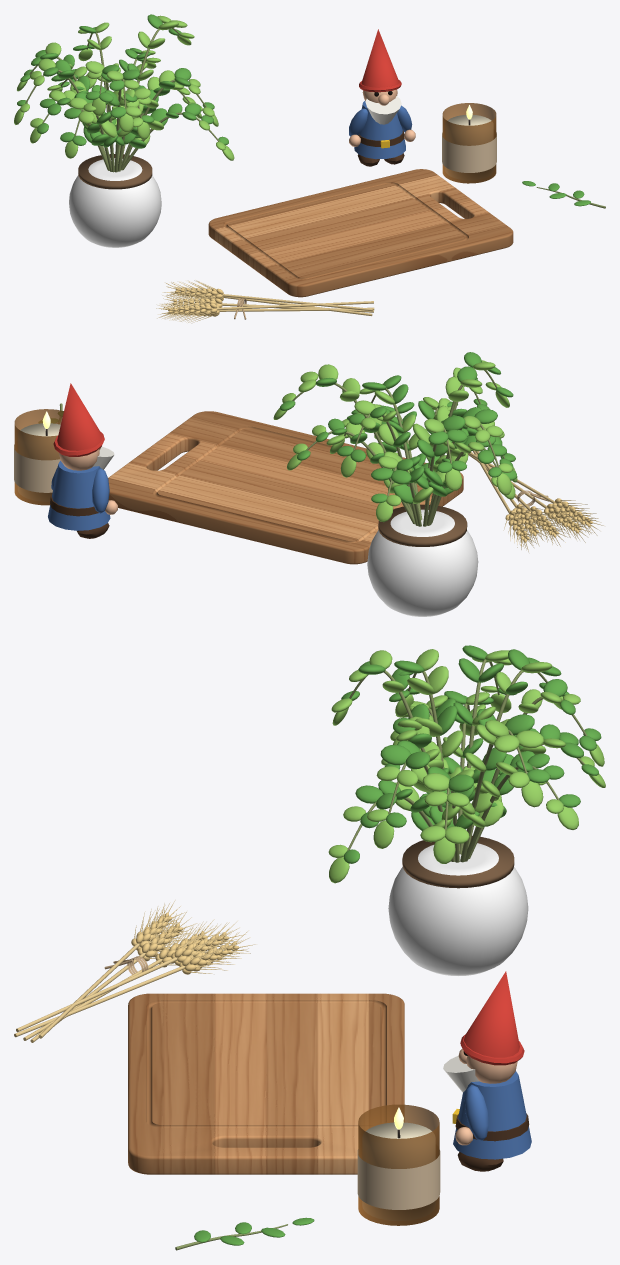
The model's file is chop.glb.
The picture shows the model from 3 angles, top to bottom: view 1: azimuth 30°, elevation 25°; view 2: azimuth 150°, elevation 25°; view 3: azimuth 270°, elevation 25°; orthographic projection. The views are drawn at different scales.
Parts seen in each view (by area): view 1: CuttingBoard, Plant_Leaves_Light, Plant_Leaves, Plant_Pot, Gnome_Figure, Candle_Jar, Plant, Candle_WaxBody, Candle_Label, Wheat_Awns, Wheat_Heads, Plant_Soil (+2 smaller); view 2: CuttingBoard, Plant_Leaves, Plant_Leaves_Light, Plant_Pot, Gnome_Figure, Plant, Candle_Jar, Wheat_Heads, Candle_WaxBody, Plant_Soil, Wheat_Awns, Candle_Label; view 3: CuttingBoard, Plant_Leaves_Light, Plant_Leaves, Plant_Pot, Gnome_Figure, Candle_Jar, Candle_WaxBody, Plant, Candle_Label, Wheat_Heads, Plant_Soil, Wheat_Awns (+1 smaller).
Part boxes in pixels (x1,y1,x2,y2): CuttingBoard: (208,169,513,297); Plant_Leaves_Light: (14,15,234,160); Plant_Leaves: (17,14,228,148); Plant_Pot: (69,158,161,247); Gnome_Figure: (349,29,415,166); Candle_Jar: (442,103,496,183); Plant: (25,28,219,172); Candle_WaxBody: (446,115,492,179); Candle_Label: (442,132,496,172); Wheat_Awns: (156,280,216,323); Wheat_Heads: (168,287,223,316); Plant_Soil: (78,154,152,189); CuttingBoard: (108,411,463,564); Plant_Leaves: (280,352,516,503); Plant_Leaves_Light: (273,360,517,522); Plant_Pot: (367,509,478,616); Gnome_Figure: (48,383,117,538); Plant: (292,368,505,526); Candle_Jar: (14,409,63,505); Wheat_Heads: (505,498,592,542); Candle_WaxBody: (18,423,60,500); Plant_Soil: (378,504,467,546); Wheat_Awns: (503,500,603,551); Candle_Label: (14,444,60,492); CuttingBoard: (128,993,404,1174); Plant_Leaves_Light: (328,649,605,883); Plant_Leaves: (341,645,601,863); Plant_Pot: (388,843,528,975); Gnome_Figure: (443,971,531,1171); Candle_Jar: (358,1104,439,1225); Candle_WaxBody: (363,1122,434,1220); Plant: (347,659,587,862); Candle_Label: (357,1149,440,1209); Wheat_Heads: (131,912,239,974); Plant_Soil: (402,835,514,888); Wheat_Awns: (134,900,255,973).
Size of what is drawn, in the model's own units: 0.7448 by 0.2946 by 0.5243.
Materials: 21 (1 with a texture image).
